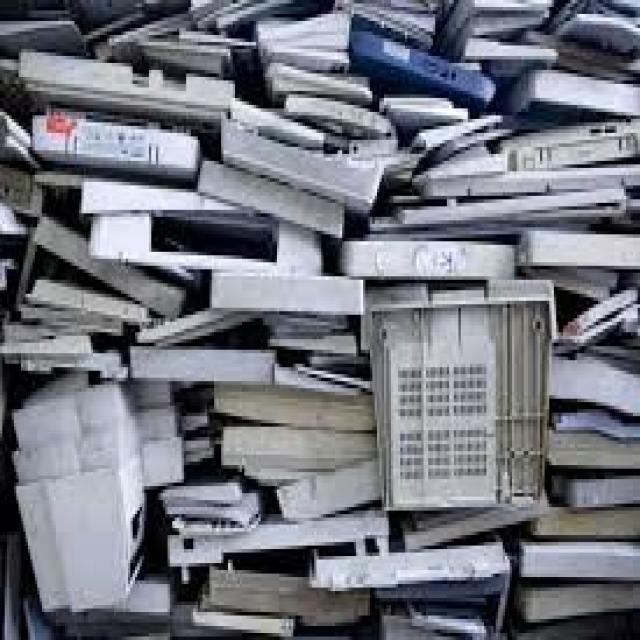Hazard: (6, 6, 619, 637)
